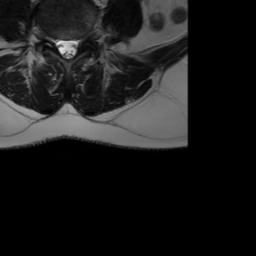CCS_normal: (63, 34, 71, 64)
LFS_stenosis: (80, 27, 88, 50)
LLS_normal: (71, 33, 79, 61)
RFS_normal: (48, 28, 55, 51)
RLS_normal: (55, 33, 63, 58)
